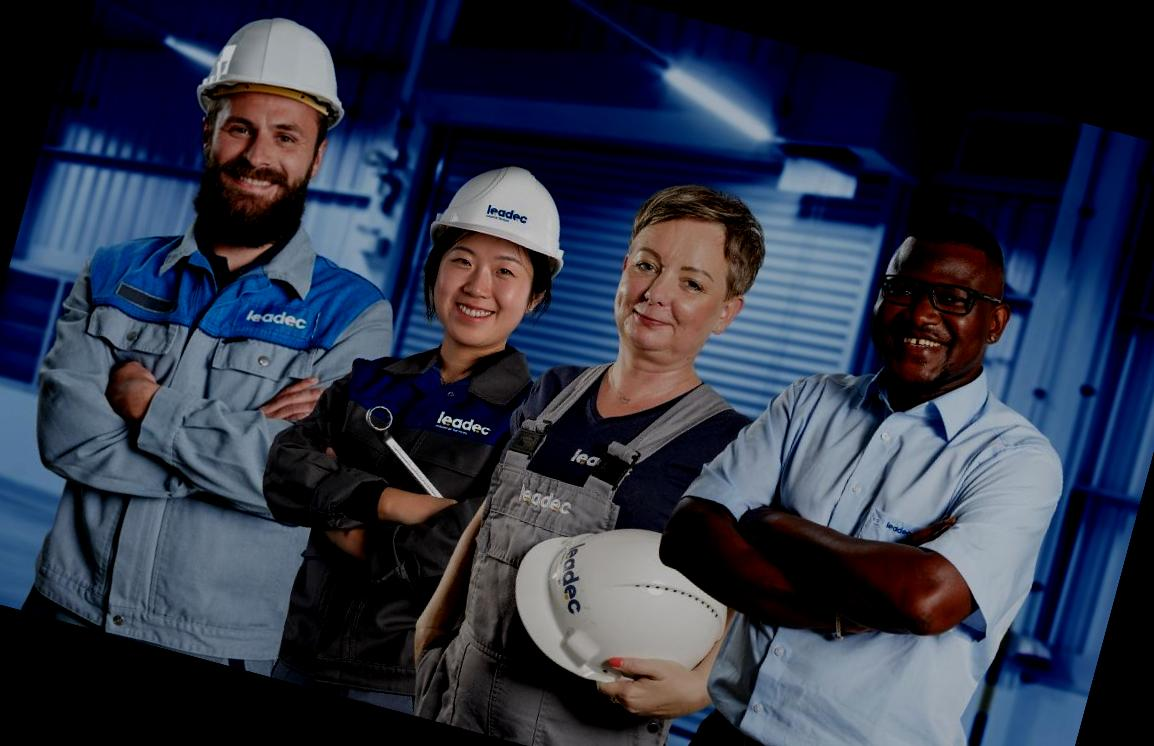helmet: (483, 478, 756, 724), (181, 0, 369, 147), (415, 149, 591, 284)
no_vest: (0, 191, 401, 670), (653, 315, 1081, 746), (409, 337, 732, 746), (266, 320, 566, 730)
person: (0, 0, 477, 687), (601, 157, 1140, 746), (422, 142, 835, 746), (259, 123, 616, 730)
